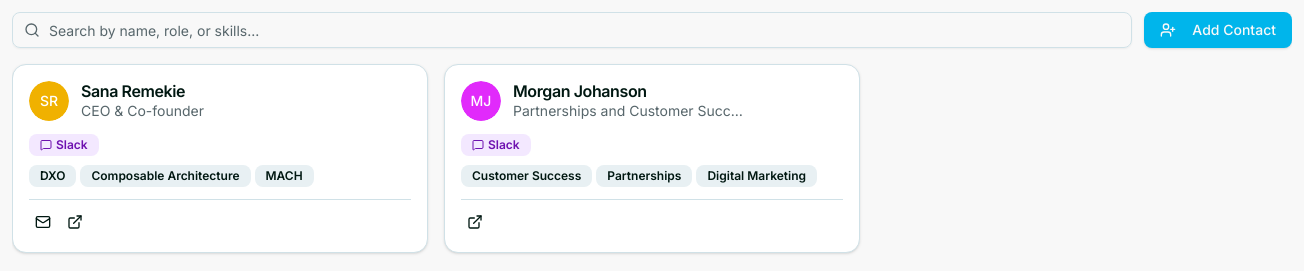
Test case: Contacts Page › filters contacts by name
The image size is (1304, 271).
Type "Sana" into the field with placeholder "Search by name, role, or skills..." at [572, 30], box top-left (12, 12), bottom-right (1132, 48)
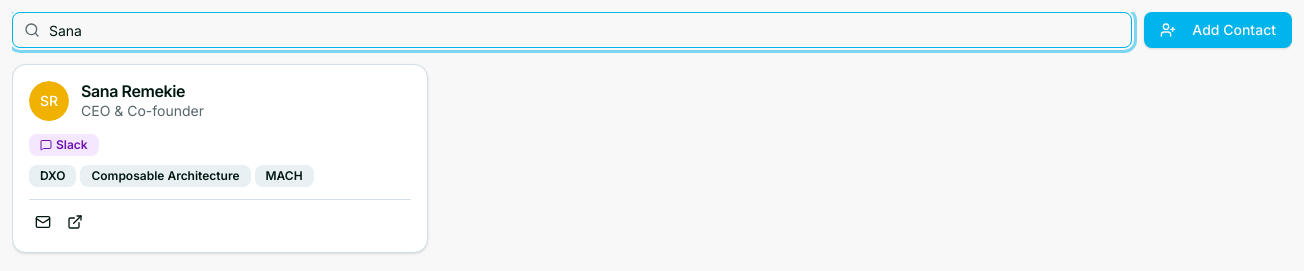
expect the heading "Sana Remekie" is shown: met, box top-left (81, 81), bottom-right (185, 101)
expect the heading "Morgan Johanson" is gone: met
